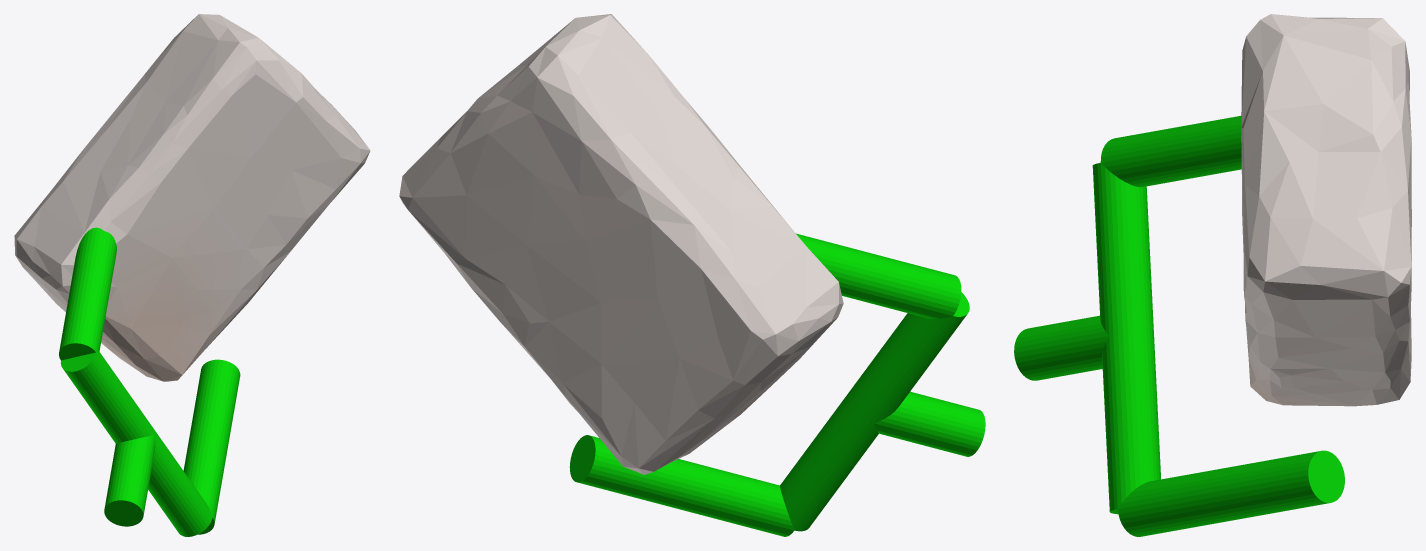
Rendered from round_001_trial_000.obj.
3 views of the same model, side by side, from view 1: azimuth 30°, elevation 25°; view 2: azimuth 150°, elevation 25°; view 3: azimuth 270°, elevation 25° (orthographic). The views are drawn at different scales.
Parts seen in each view (by area): view 1: geometry_0, geometry_1; view 2: geometry_0, geometry_1; view 3: geometry_0, geometry_1.
Part boxes in pixels (box(x1,y1,x2,y2)): geometry_0: box(14, 14, 370, 381); geometry_1: box(59, 227, 240, 536); geometry_0: box(399, 14, 843, 474); geometry_1: box(569, 233, 985, 536); geometry_0: box(1241, 14, 1411, 406); geometry_1: box(1014, 116, 1344, 536).
Bounding box in the file's own units: 0.105 × 0.121 × 0.0751.
